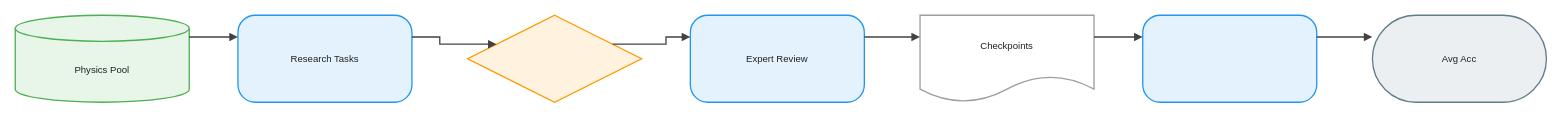
The diagram is 1563 pixels wide and 118 high, and some of its shapes have lost their labels. The box of each missing label's shape, as (x1, y1, x2, y2) in pixels:
Answer Parse: (1142, 14, 1317, 102)
Leak Rules: (467, 14, 642, 102)
